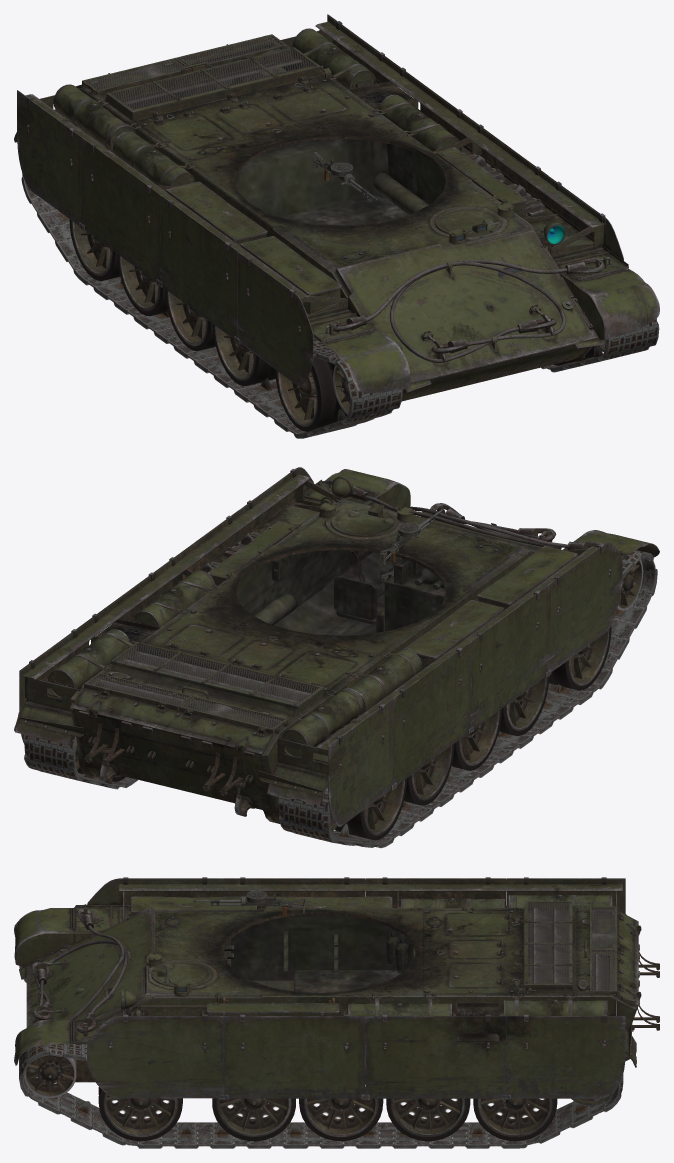
File: hull-t44.glb
The picture shows the model from 3 angles, top to bottom: view 1: azimuth 30°, elevation 25°; view 2: azimuth 150°, elevation 25°; view 3: azimuth 270°, elevation 25°; orthographic projection. The views are drawn at different scales.
Parts seen in each view (by area): view 1: Object_15, Object_17, Object_18, Object_8, Object_16, Object_10, Object_14, Object_6, Object_22, Object_21; view 2: Object_15, Object_17, Object_18, Object_8, Object_10, Object_16, Object_14, Object_6, Object_21, Object_22, Object_19; view 3: Object_17, Object_15, Object_18, Object_6, Object_16, Object_22, Object_14, Object_10, Object_21.
Part boxes in pixels (box(x1,y1,x2,y2)): Object_15: box(14, 16, 628, 401); Object_17: box(17, 14, 659, 414); Object_18: box(53, 28, 565, 392); Object_8: box(21, 162, 402, 438); Object_16: box(165, 222, 644, 431); Object_10: box(86, 36, 313, 109); Object_14: box(152, 86, 602, 365); Object_6: box(541, 318, 659, 372); Object_22: box(86, 232, 606, 418); Object_21: box(313, 152, 377, 200); Object_15: box(14, 469, 627, 823); Object_17: box(19, 467, 643, 840); Object_18: box(48, 506, 659, 766); Object_8: box(278, 550, 657, 848); Object_10: box(88, 643, 317, 727); Object_16: box(75, 475, 611, 781); Object_14: box(165, 625, 356, 686); Object_6: box(23, 735, 137, 789); Object_21: box(379, 508, 443, 589); Object_22: box(75, 572, 633, 824); Object_19: box(70, 687, 243, 795); Object_17: box(14, 877, 625, 1099); Object_15: box(19, 879, 641, 1082); Object_18: box(14, 894, 659, 1031); Object_6: box(19, 1043, 623, 1148); Object_16: box(24, 989, 617, 1141); Object_22: box(26, 1047, 593, 1129); Object_14: box(98, 913, 511, 1141); Object_10: box(528, 902, 614, 990); Object_21: box(193, 890, 306, 916).
Size of the model in its own units: 2.9 by 1.67 by 5.67.
8 materials, 8 textured.
